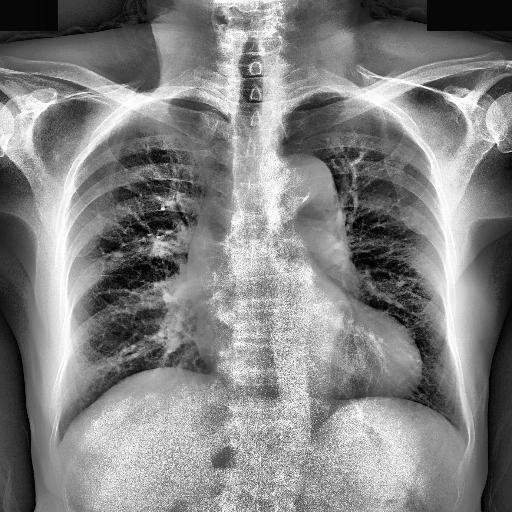0- Aortic enlargement: (188, 155, 350, 289), (266, 154, 344, 234), (278, 153, 330, 210)
3- Cardiomegaly: (194, 327, 424, 390)
